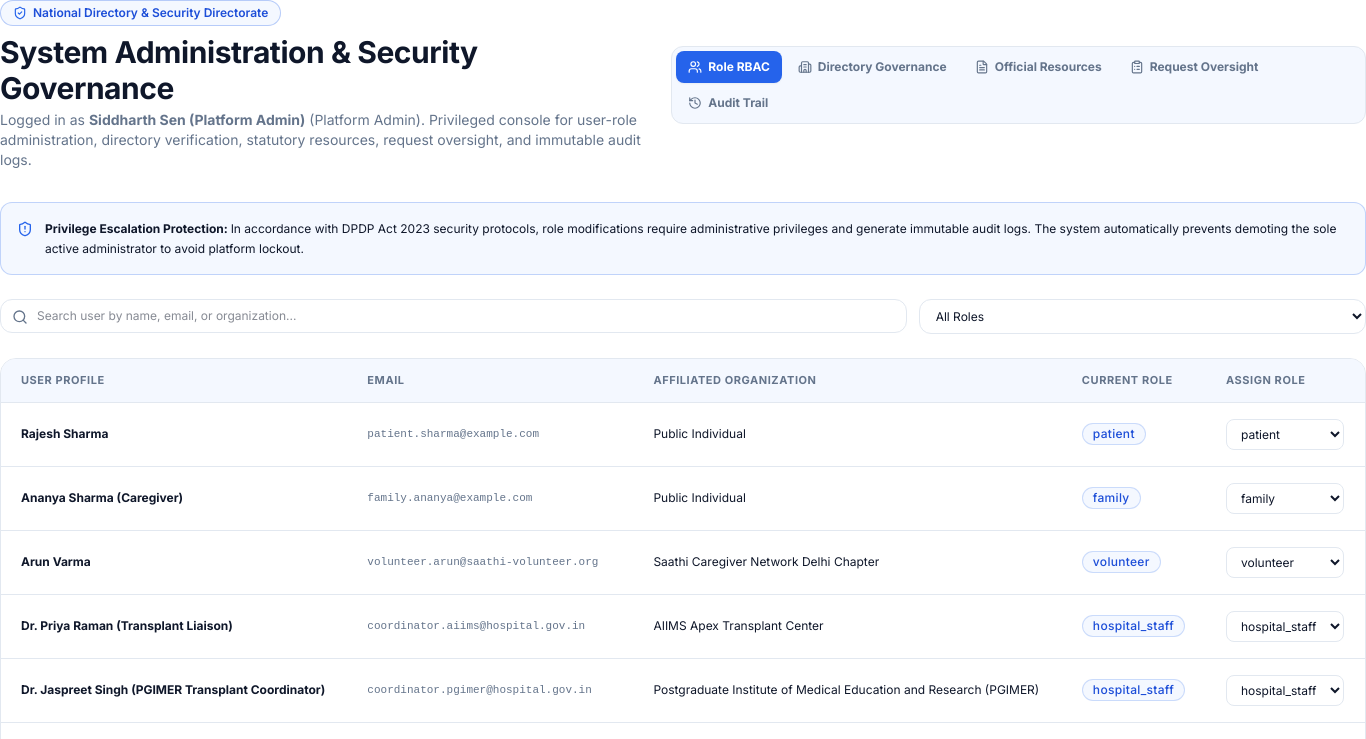
Test: Admin Portal & Privilege Escalation Guard Suite › 2. User-Role Administration & Privilege Escalation Guard › requires confirmation before applying role change through UI
This screenshot has width=1366, height=739.
Note: Find role select for patient Rajesh Sharma
Select "volunteer" in the dropdown named "Change role for Rajesh Sharma" at (1285, 434), box [1226,419,1344,450]
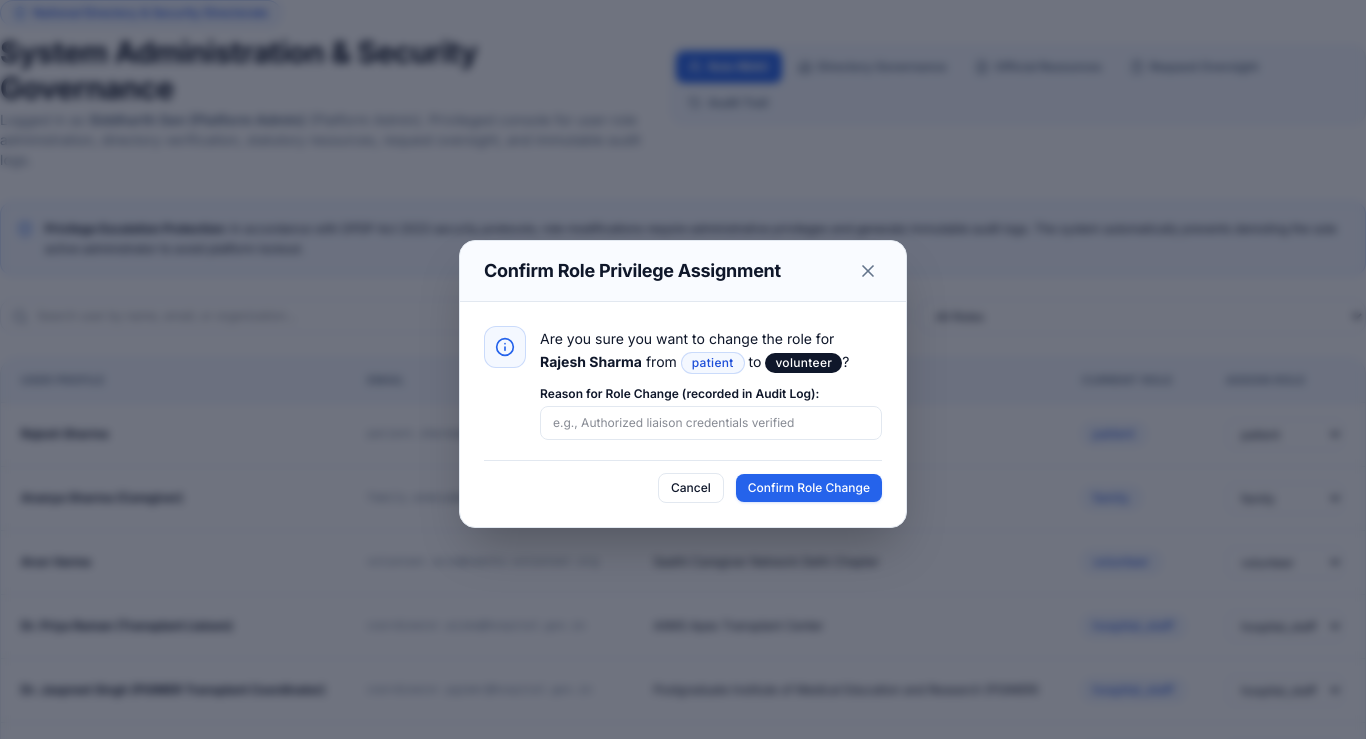
Result: the heading "Confirm Role Privilege Assignment" is shown at [484,257,781,285]
Result: the text "Are you sure you want to change the role for" is shown at [540,330,834,347]
Note: Confirm role change
Click the button "Confirm Role Change".
click(809, 488)  # box [736,474,882,502]
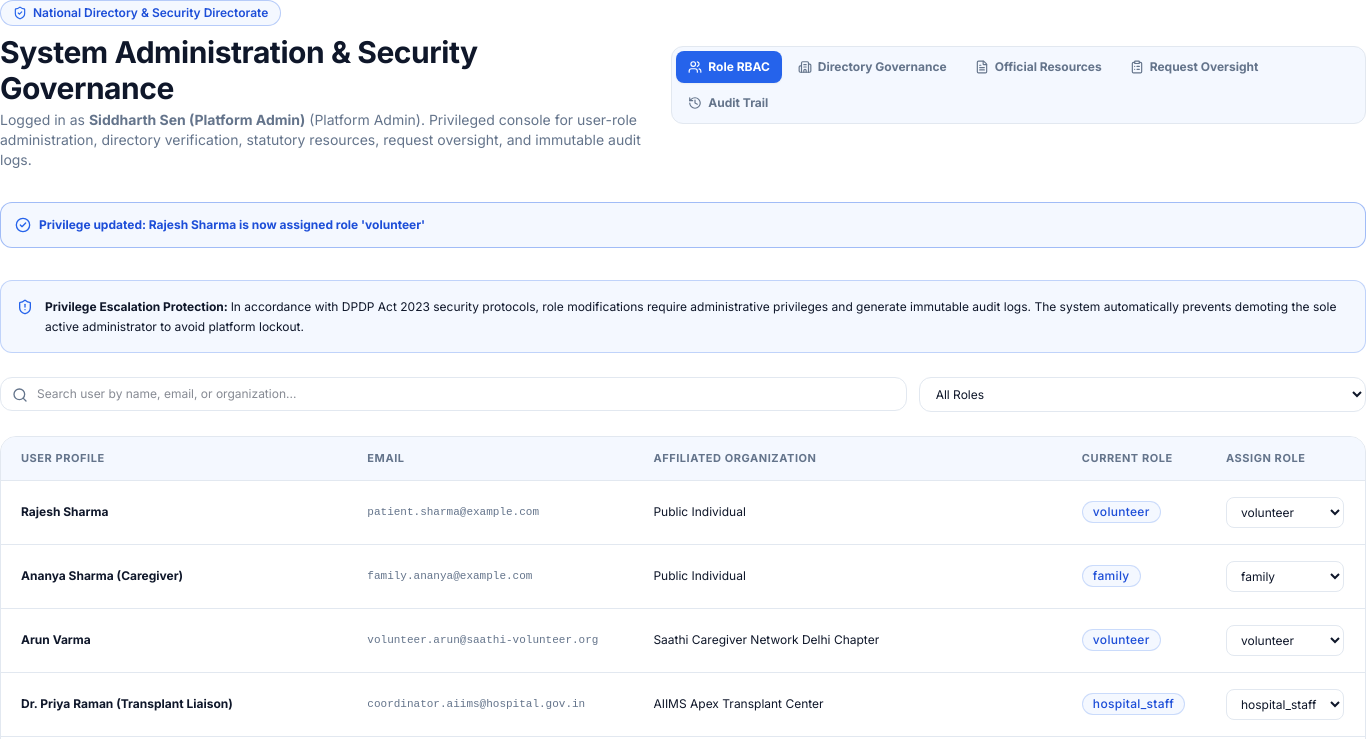
Result: the text "Privilege updated: Rajesh Sharma is now assigned role 'volunteer'" is shown at [39,217,425,233]
Result: the text "volunteer" in the row of "patient.sharma@example.com" is shown at [1093,504,1150,519]
